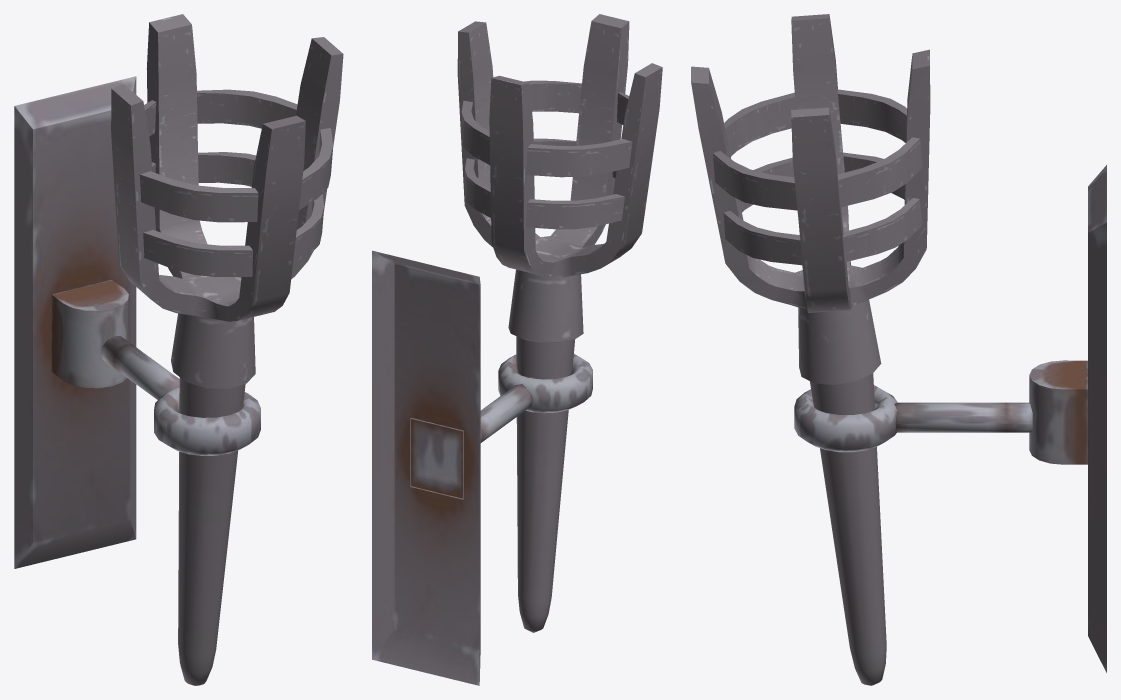
The model's file is Torch_Metal.gltf.
3 renders of one model, left to right at view 1: azimuth 30°, elevation 25°; view 2: azimuth 150°, elevation 25°; view 3: azimuth 270°, elevation 25°, orthographic. The views are drawn at different scales.
Parts seen in each view (by area): view 1: Torch_Metal; view 2: Torch_Metal; view 3: Torch_Metal.
Boxes of the visible parts, x1,y1,x2,y2 form: Torch_Metal: (14,14,343,685); Torch_Metal: (372,14,662,685); Torch_Metal: (691,14,1106,685).
Bounding box in the file's own units: 0.2232 × 0.6482 × 0.3884.
1 material, 1 textured.
